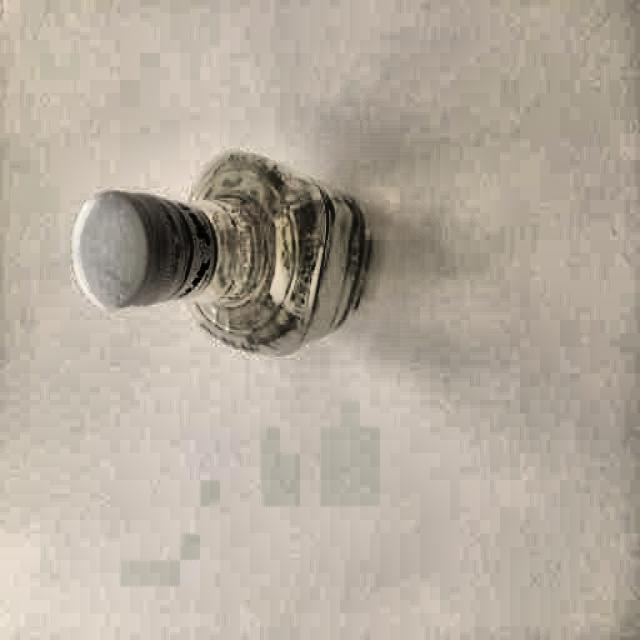glass: (71, 149, 376, 352)
